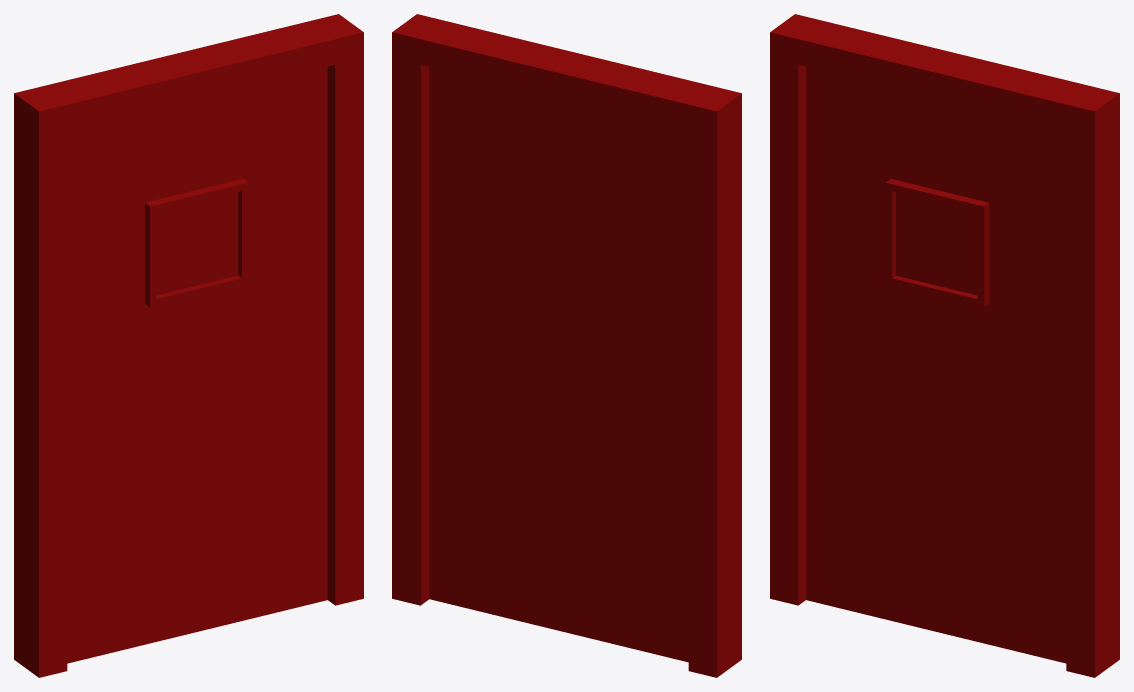
File: Porte2.FBX
3 views of the same model, side by side, from view 1: azimuth 30°, elevation 25°; view 2: azimuth 150°, elevation 25°; view 3: azimuth 330°, elevation 25° (orthographic).
Parts seen in each view (by area): view 1: porte_B; view 2: porte_B; view 3: porte_B.
Part boxes in pixels (<box>): porte_B: <box>14,14,363,677</box>; porte_B: <box>392,14,741,677</box>; porte_B: <box>770,14,1119,677</box>.
Bounding box in the file's own units: 1.47 × 0.1966 × 2.46.
